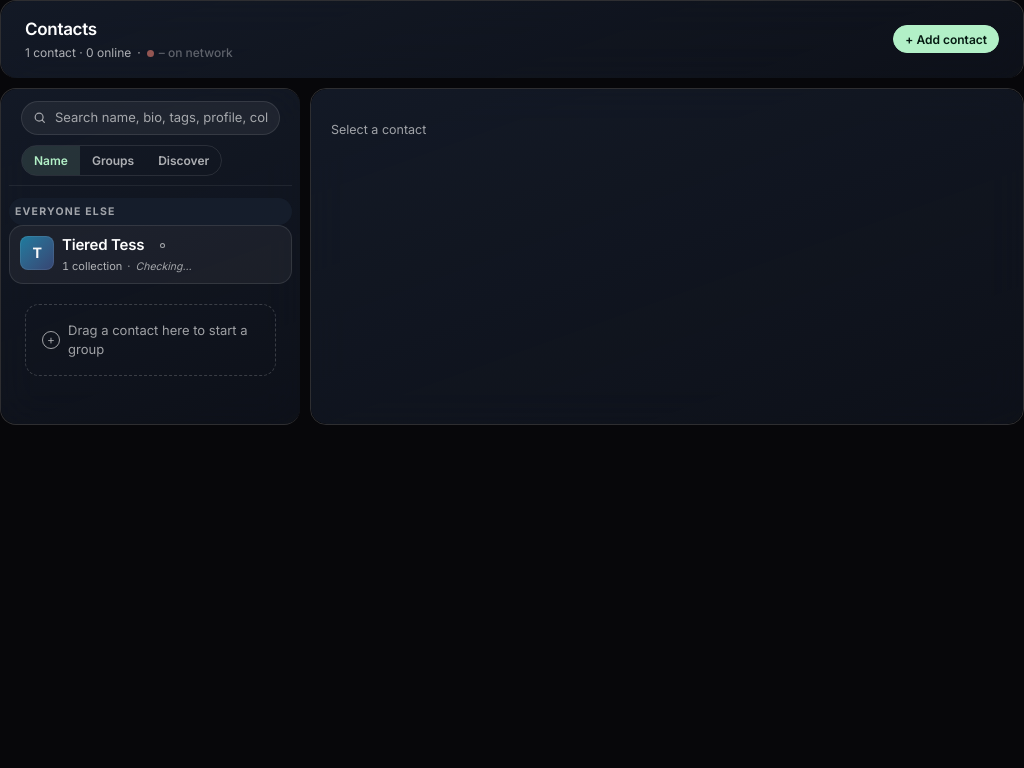
Scenario: QURATOR-378 rev b — the contact pane in four tiers › "+ tag" opens the tag input with the caret already in it (owner devtest 2026-10-14)
The image size is (1024, 768).
What coordinates should you click on to do the following:
click the option with class "contact-card"
I would click on:
 (37, 253)
Its box is [9,226,292,284].
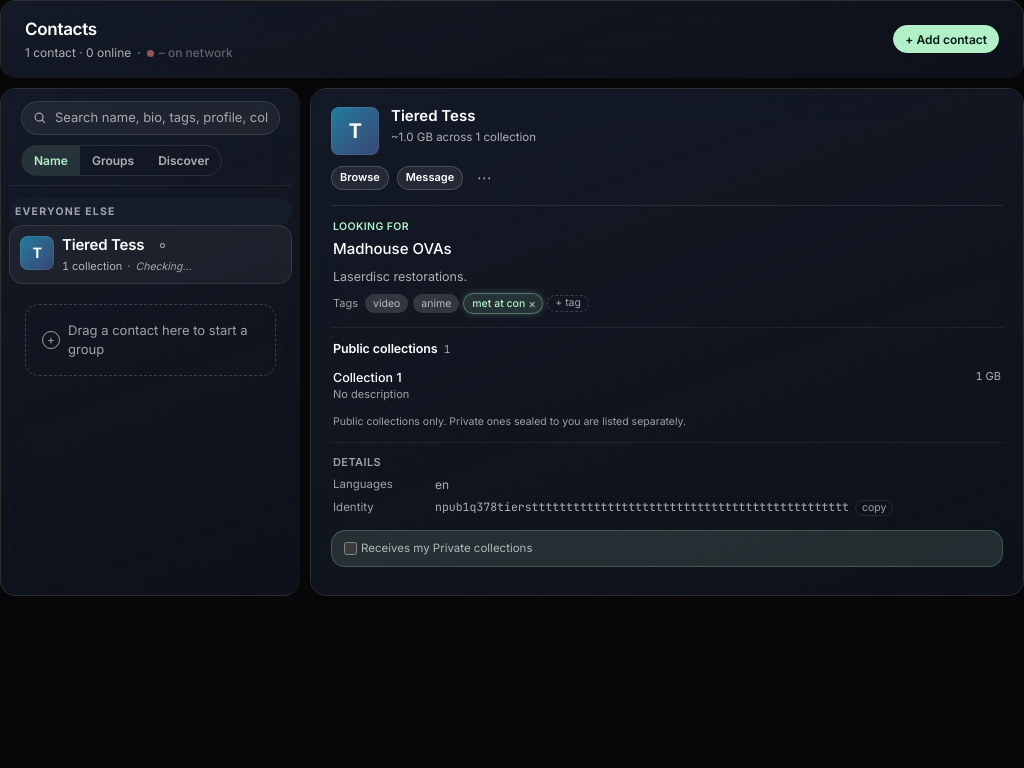
Check: the element with class "about" is shown, box [333,220,589,313]
What coordinates should you click on to do the following:
click the button with class "tag-add-btn"
I would click on:
 (568, 304)
Its box is [547,295,589,312].
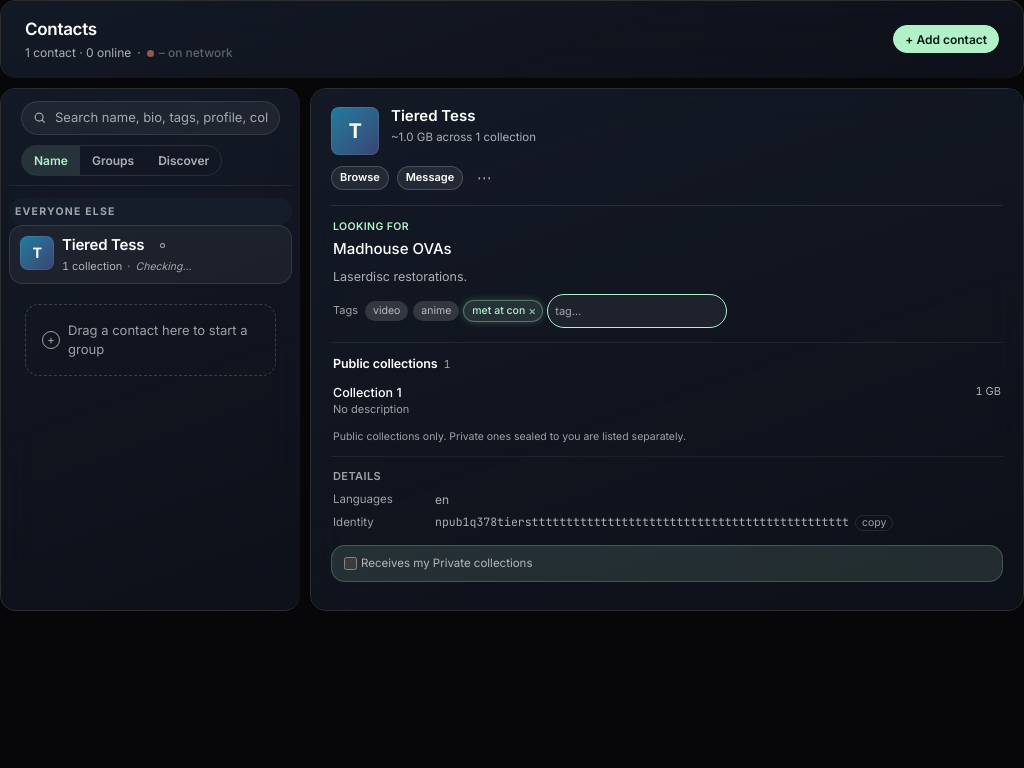
Check: the field with class "tag-input" is shown, box [547,294,727,328]
